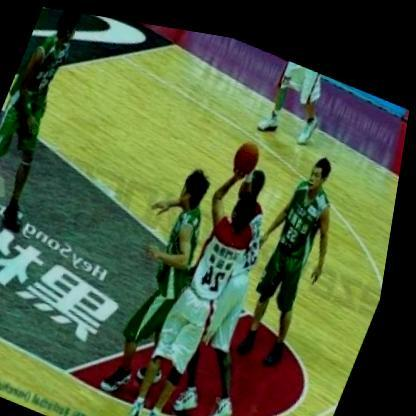basketball: (229, 126, 269, 173)
